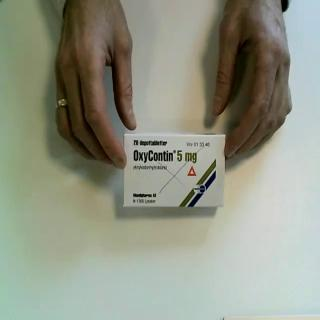oxycontin5mg: (122, 130, 226, 210)
